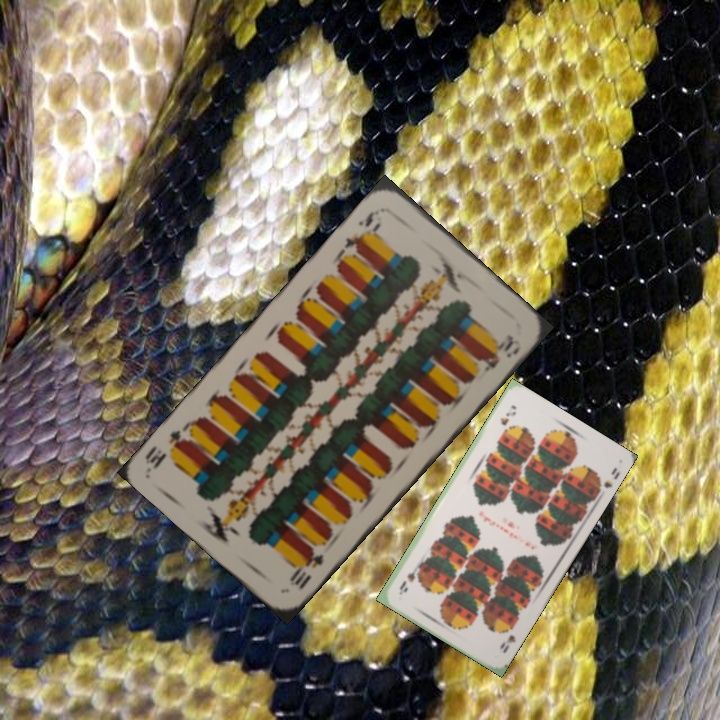E10: (339, 205, 384, 255), (285, 545, 327, 592)
S9: (496, 619, 518, 656), (496, 401, 519, 428)
